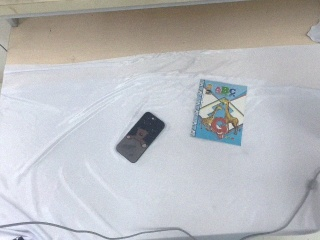book: (187, 77, 251, 150)
phone: (115, 111, 166, 164)
